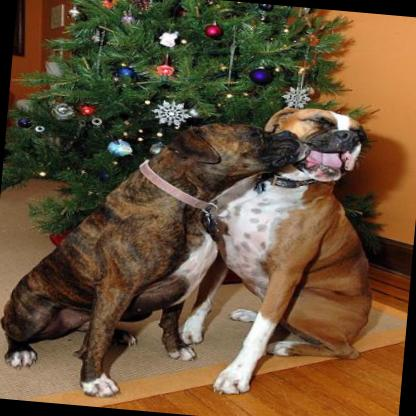boxer: (0, 97, 311, 415)
